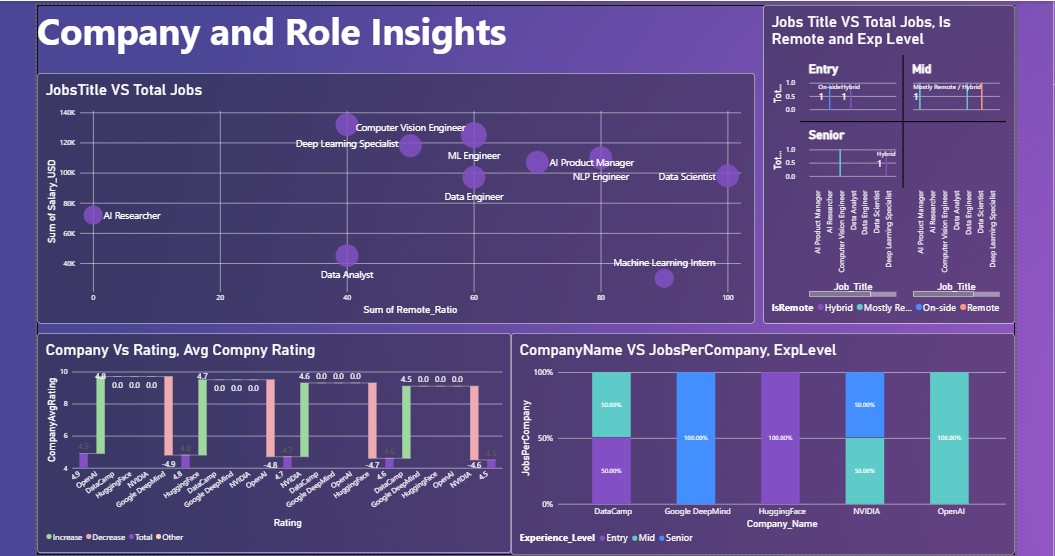

What the dashboard file says about the page in this screenshot:
{"tool":"powerbi","page":{"name":"Company and Role Insights","canvas":[1920,1080],"ordinal":2},"visuals":[{"type":"hundredPercentStackedColumnChart","title":"CompanyName VS JobsPerCompany, ExpLevel","fields":{"Category":["Dim_Companies.Company_Name"],"Y":["Dim_Companies.JobsPerCompany"],"Series":["Fact_Jobs.Experience_Level"]},"box":[931,643.7,989.3,436.3],"z":0},{"type":"textbox","box":[0,0,931,108],"z":1000},{"type":"clusteredColumnChart","title":"Jobs Title VS Total Jobs, Is Remote and  Exp Level","fields":{"Y":["Fact_Jobs.TotalJobs"],"Category":["Fact_Jobs.Job_Title"],"Series":["Fact_Jobs.IsRemote"],"Rows":["Fact_Jobs.Experience_Level"]},"box":[1425.6,0,494.6,626.4],"z":2000},{"type":"scatterChart","title":"JobsTitle VS Total Jobs","fields":{"X":["Sum(Fact_Jobs.Remote_Ratio)"],"Y":["Sum(Fact_Jobs.Salary_USD)"],"Size":["Dim_Skills.SkillUsageCount"],"Category":["Fact_Jobs.Job_Title"]},"box":[0,133.9,1410.5,492.5],"z":3000},{"type":"waterfallChart","title":"Company Vs Rating, Avg Compny Rating ","fields":{"Category":["Dim_Companies.Rating"],"Breakdown":["Dim_Companies.Company_Name"],"Y":["Dim_Companies.CompanyAvgRating"]},"box":[0,643.7,931,432],"z":4000}]}

Visuals, with their boxes on the page's 1920x1080 design canvas (x1, y1, x2, y2). These are canvas units, not pixel positions in the 1055x556 screenshot, which may show the page scaled, cropped or inside an application window:
"CompanyName VS JobsPerCompany, ExpLevel" hundredPercentStackedColumnChart: [931,644,1920,1080]
textbox: [0,0,931,108]
"Jobs Title VS Total Jobs, Is Remote and  Exp Level" clusteredColumnChart: [1426,0,1920,626]
"JobsTitle VS Total Jobs" scatterChart: [0,134,1410,626]
"Company Vs Rating, Avg Compny Rating " waterfallChart: [0,644,931,1076]
